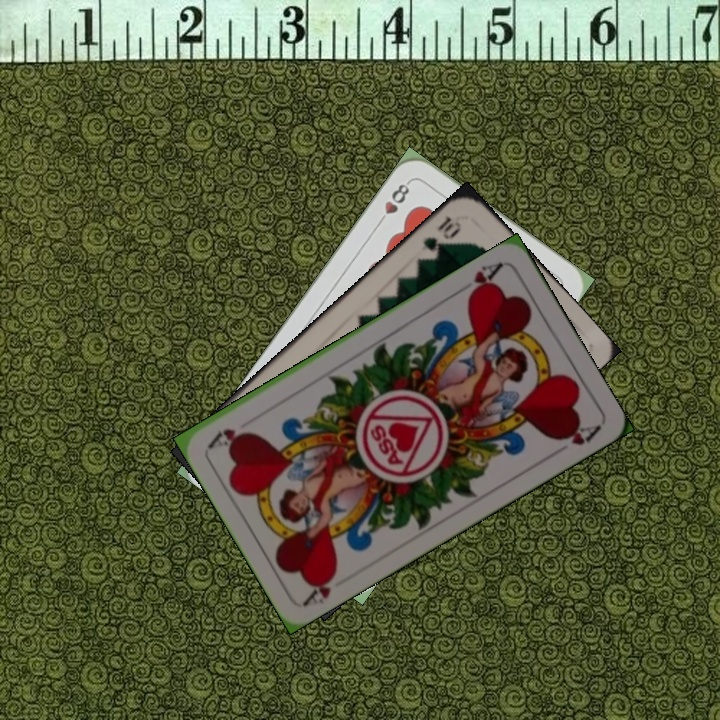G10: (418, 211, 464, 256)
H8: (373, 177, 413, 228)
HA: (453, 258, 506, 302), (300, 566, 340, 608)
